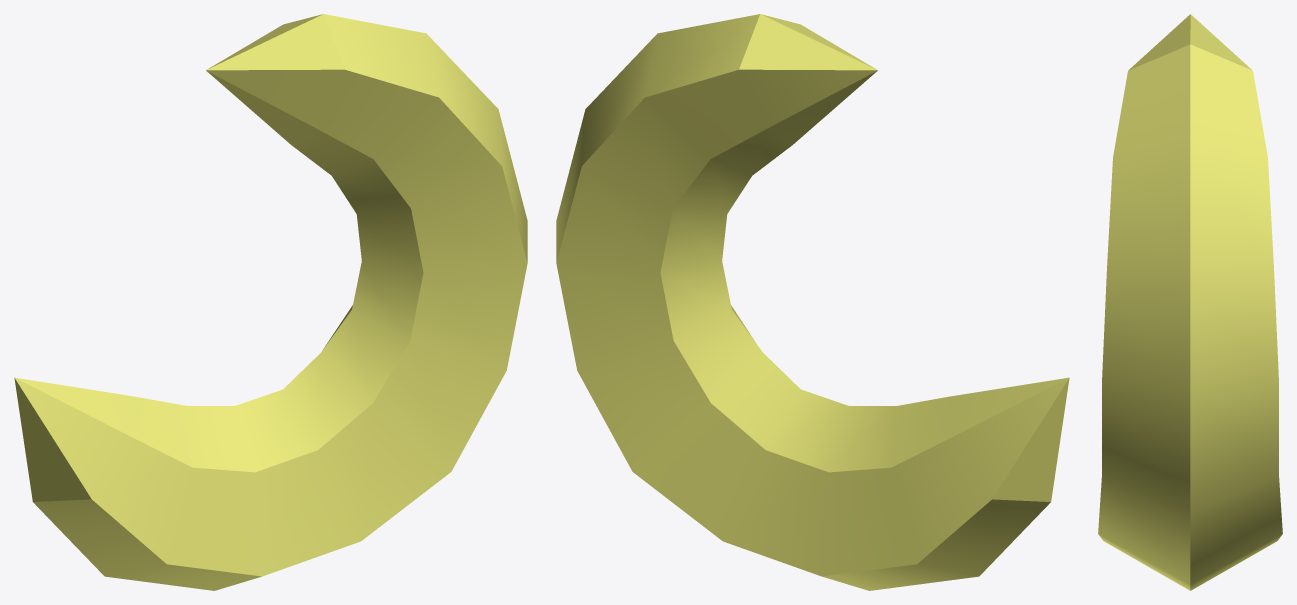
Rendered from Icono luna.fbx.
The picture shows the model from 3 angles, left to right: view 1: azimuth 30°, elevation 25°; view 2: azimuth 150°, elevation 25°; view 3: azimuth 270°, elevation 25°; orthographic projection.
Parts seen in each view (by area): view 1: pTorus1; view 2: pTorus1; view 3: pTorus1.
Part boxes in pixels (bbox=[...]): pTorus1: bbox=[14, 14, 527, 590]; pTorus1: bbox=[556, 14, 1069, 590]; pTorus1: bbox=[1098, 14, 1282, 590].
Bounding box in the file's own units: 0.2243 × 0.2299 × 0.0692.
